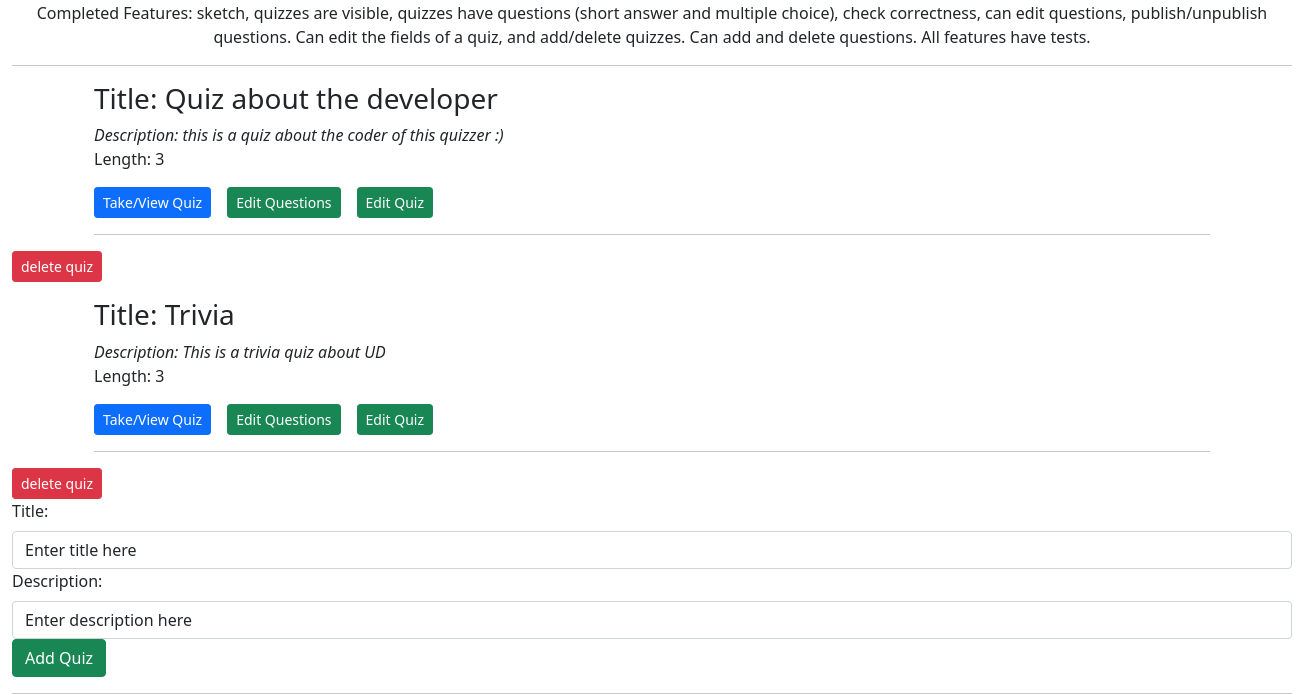
Test: Quizzer Tests › Quizzes have questions
(page scrolled)
Click the button "Take/View Quiz" below "Quiz about the developer" at (153, 203), box [94,187,211,218]
(page scrolled)
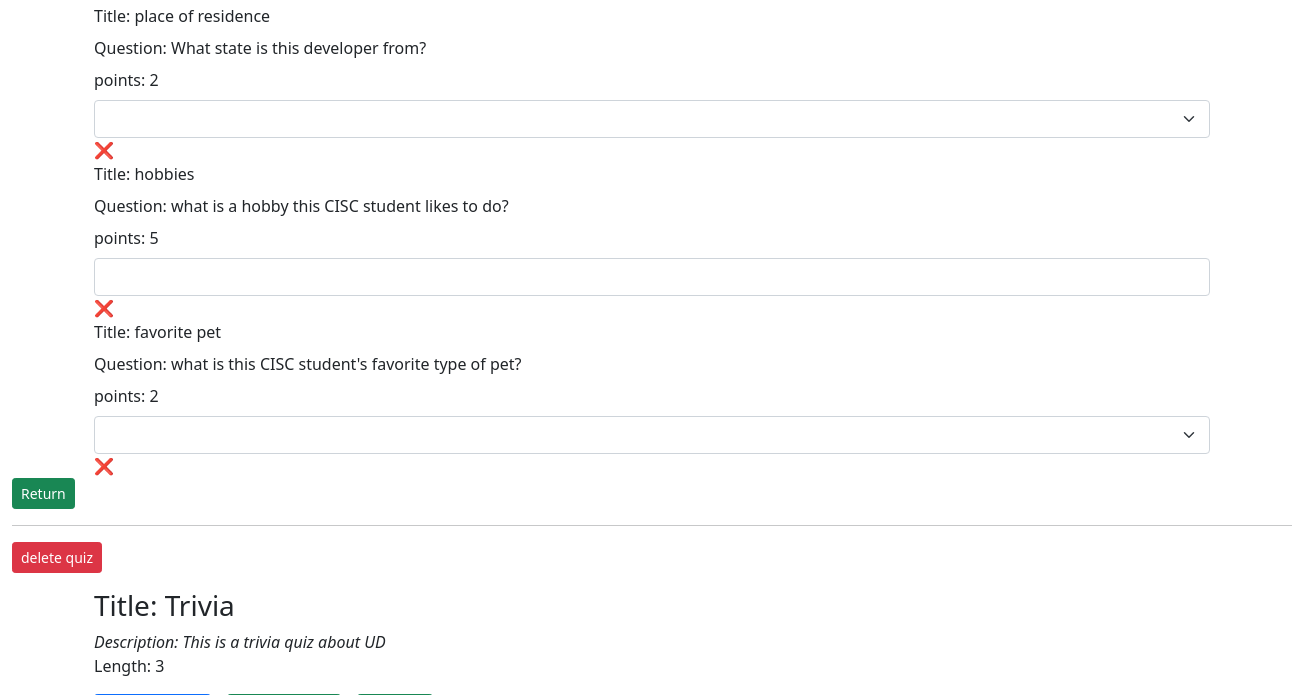
Expected: the text "Question: What state is this developer from?" is shown, [94,36,426,60]
